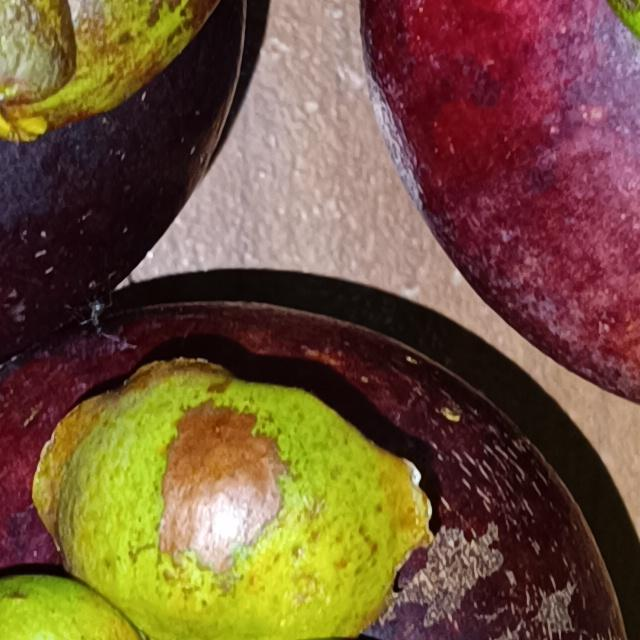mangosteen: (0, 237, 640, 640), (268, 0, 640, 447), (0, 0, 283, 367)
